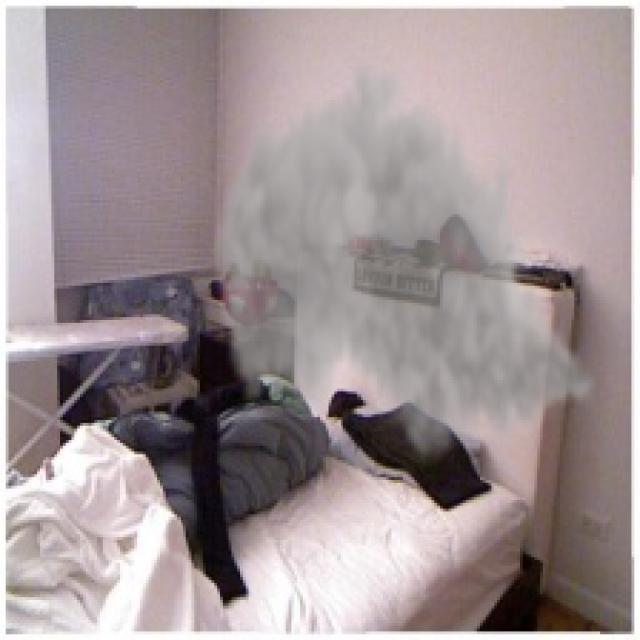Smoke: (208, 49, 600, 472)
